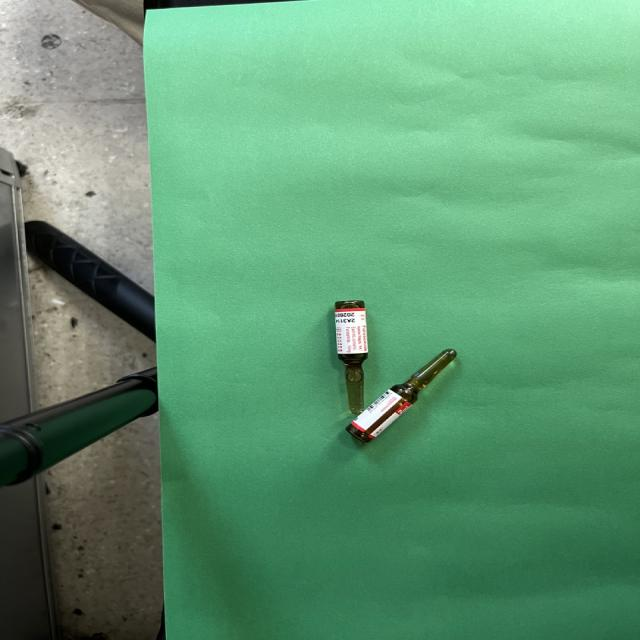Ampoules: (335, 300, 457, 443)
